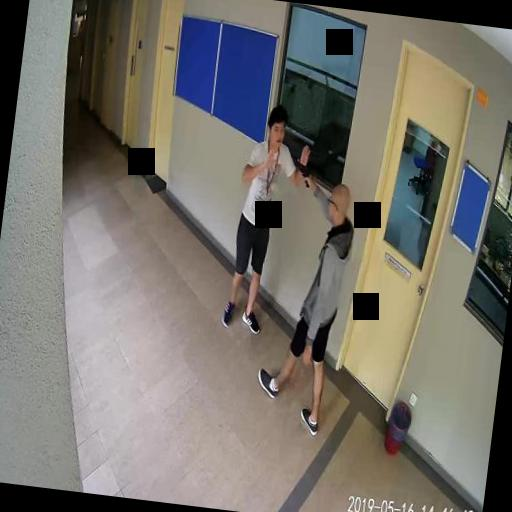Handgun: (292, 158, 312, 187)
